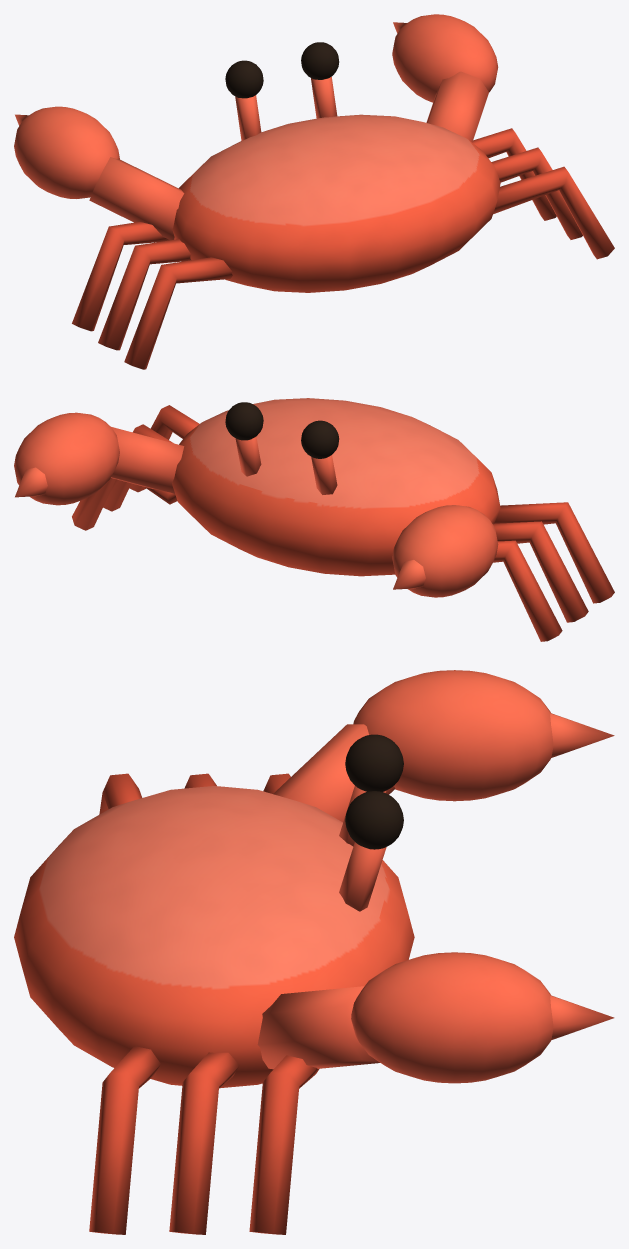
File: crab.glb
The picture shows the model from 3 angles, top to bottom: view 1: azimuth 30°, elevation 25°; view 2: azimuth 150°, elevation 25°; view 3: azimuth 270°, elevation 25°; orthographic projection. The views are drawn at different scales.
Parts seen in each view (by area): view 1: Crab; view 2: Crab; view 3: Crab.
Part boxes in pixels (left/top/right/bottom): Crab: left=14, top=14, right=614, bottom=369; Crab: left=14, top=398, right=614, bottom=641; Crab: left=14, top=670, right=614, bottom=1234.
Bounding box in the file's own units: 0.644 × 0.2476 × 0.45.
1 material, 1 textured.
